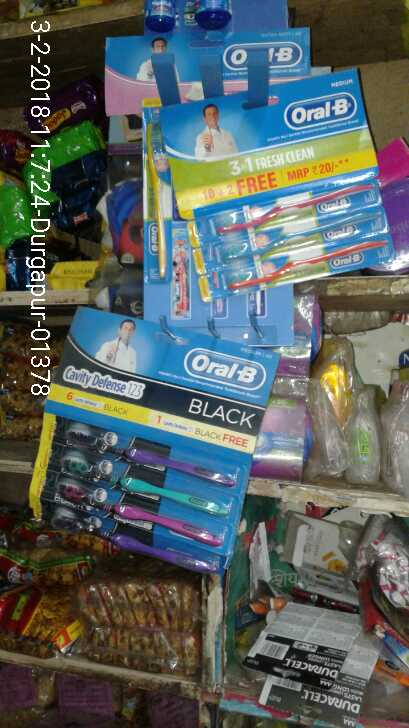oralb: (47, 417, 244, 579), (200, 177, 393, 287)
